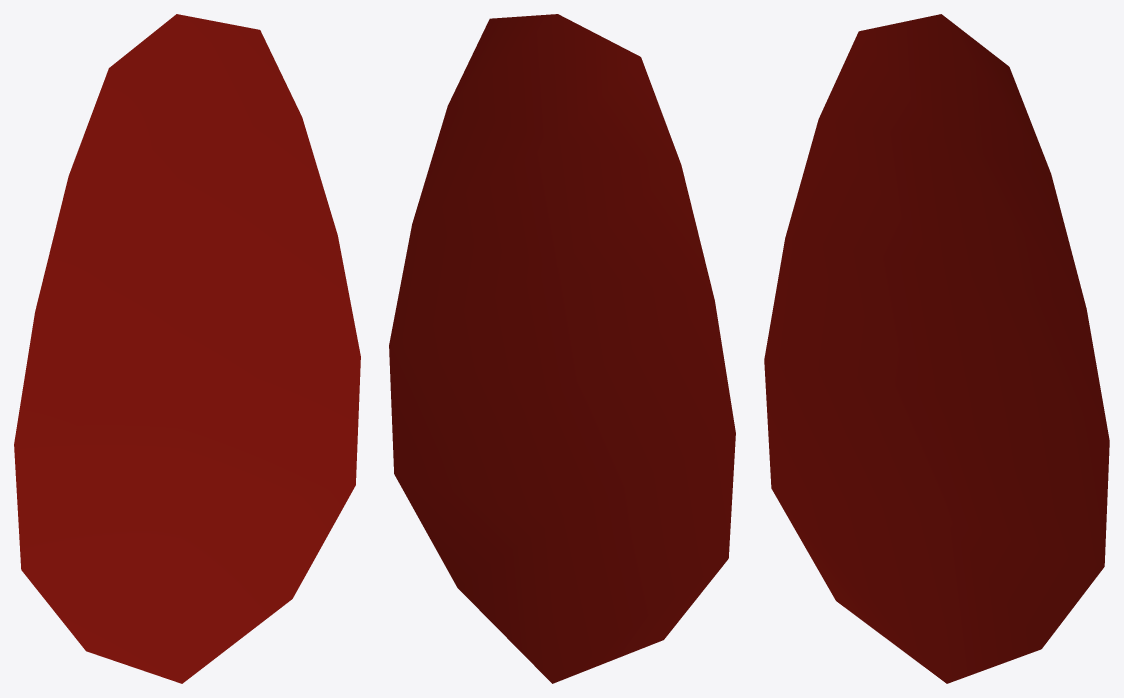
File: ara_feather_flight_tertiary_043.obj
3 renders of one model, left to right at view 1: azimuth 30°, elevation 25°; view 2: azimuth 150°, elevation 25°; view 3: azimuth 330°, elevation 25°, orthographic.
Parts seen in each view (by area): view 1: feather_flight_tertiary_043; view 2: feather_flight_tertiary_043; view 3: feather_flight_tertiary_043.
Boxes of the visible parts, x1,y1,x2,y2 form: feather_flight_tertiary_043: (14, 14, 360, 683); feather_flight_tertiary_043: (389, 14, 735, 683); feather_flight_tertiary_043: (764, 14, 1109, 683).
Size of the model in its own units: 0.0189 by 0.0349 by 0.000724.
